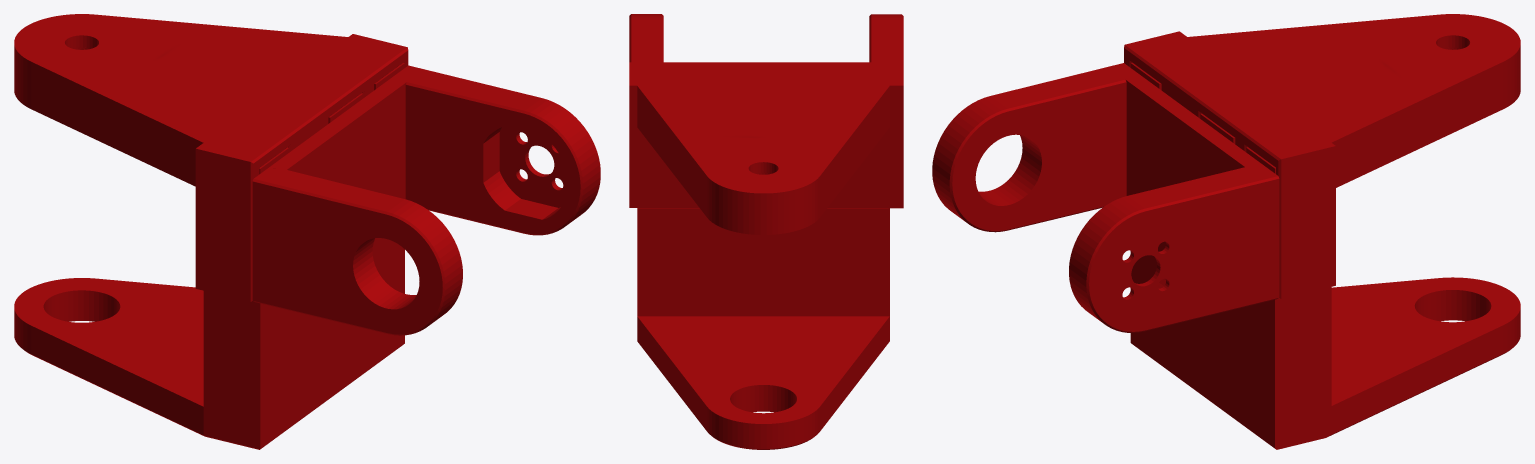
Rendered from palm_link21.dae.
3 renders of one model, left to right at view 1: azimuth 30°, elevation 25°; view 2: azimuth 150°, elevation 25°; view 3: azimuth 270°, elevation 25°, orthographic. The views are drawn at different scales.
Parts seen in each view (by area): view 1: palm_link21; view 2: palm_link21; view 3: palm_link21.
Boxes of the visible parts, x1,y1,x2,y2 form: palm_link21: (14, 14, 600, 449); palm_link21: (629, 14, 903, 449); palm_link21: (932, 14, 1520, 449).
Size of the model in its own units: 67.67 by 87.56 by 48.25.
1 material, 1 textured.
